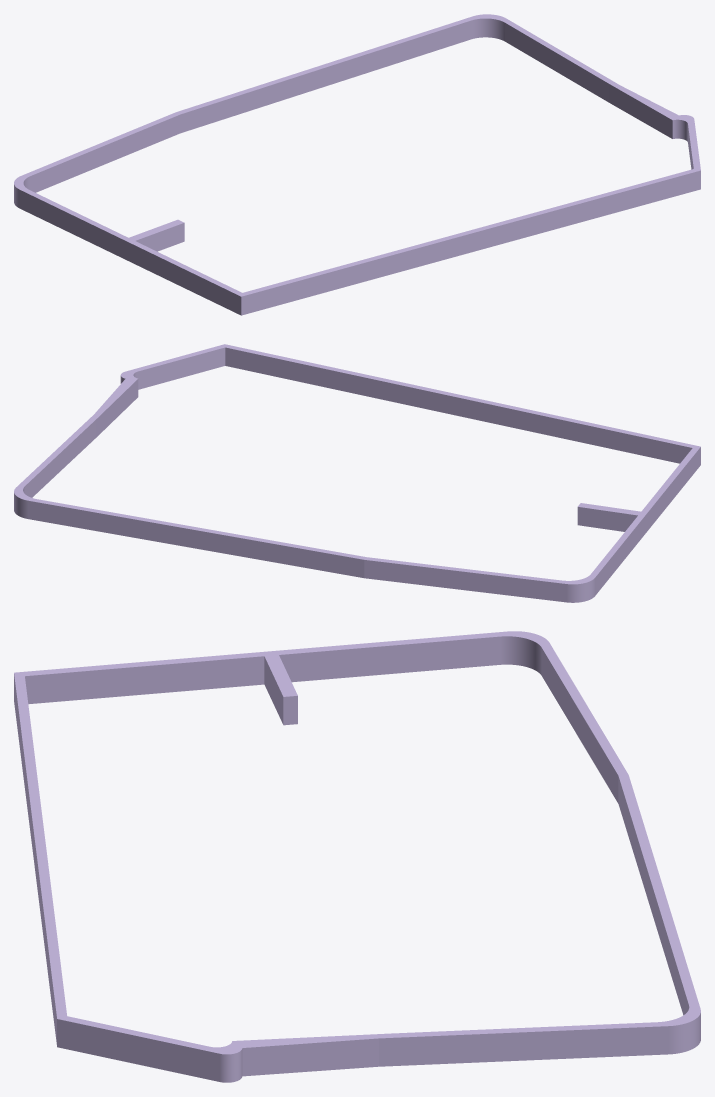
File: lidar-test-2.dae
3 views of the same model, one above another, from view 1: azimuth 30°, elevation 25°; view 2: azimuth 150°, elevation 25°; view 3: azimuth 270°, elevation 25° (orthographic). The views are drawn at different scales.
Visible parts, largest first — view 1: ID2; view 2: ID2; view 3: ID2.
Part boxes in pixels (box(x1,y1,x2,y2)): ID2: box(14, 14, 700, 315); ID2: box(14, 344, 700, 602); ID2: box(14, 631, 700, 1082).
Bounding box in the file's own units: 9.62 × 6.6 × 0.3.
